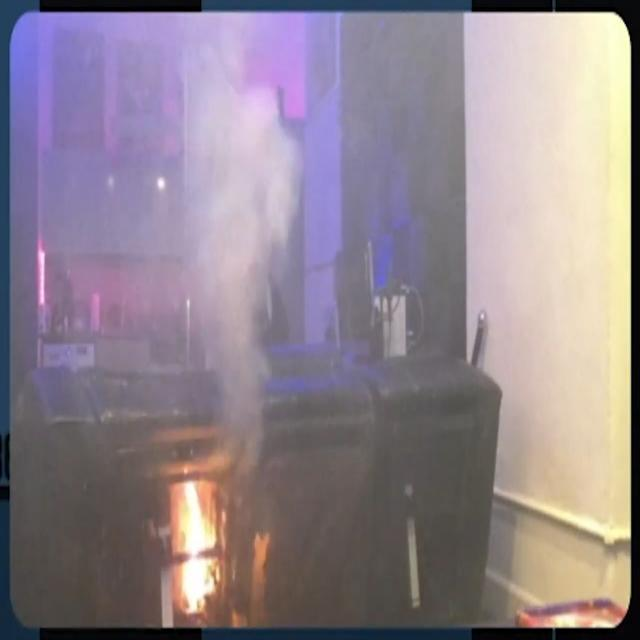Fire: (178, 478, 218, 601)
Smoke: (190, 74, 292, 447)
